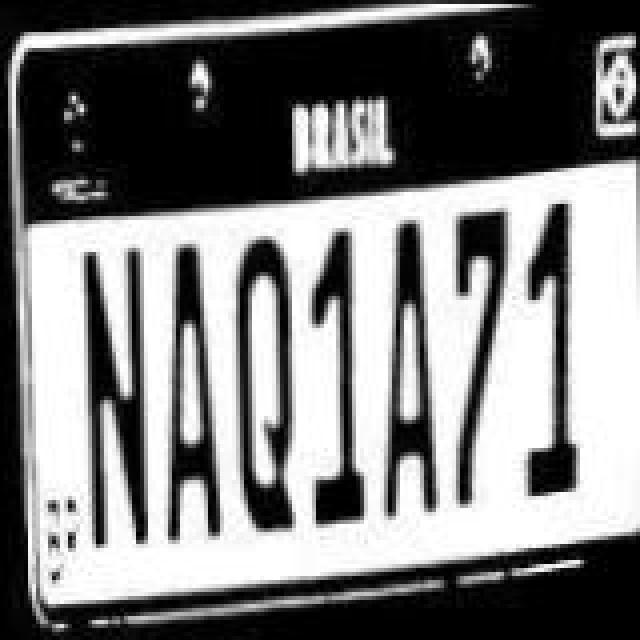1: (516, 206, 592, 498), (302, 220, 374, 520)
7: (444, 206, 520, 498)
A: (154, 244, 230, 548), (380, 210, 448, 502)
N: (74, 244, 158, 548)
Q: (230, 234, 306, 538)
